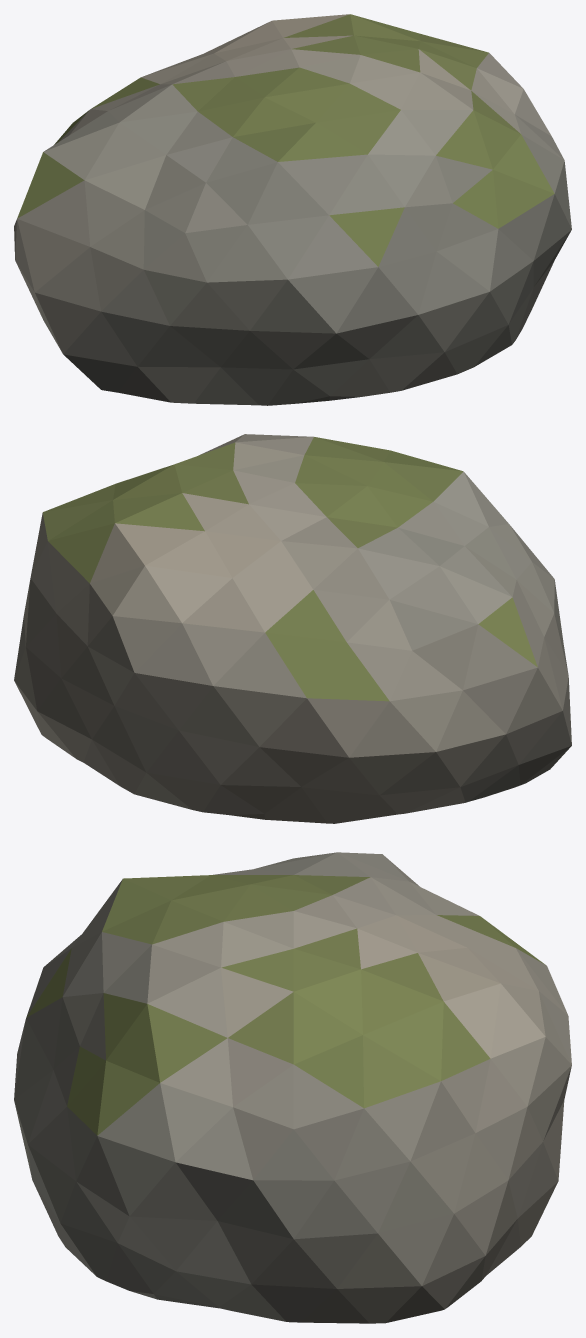
File: gk_rock_mossy_boulder.glb
The picture shows the model from 3 angles, top to bottom: view 1: azimuth 30°, elevation 25°; view 2: azimuth 150°, elevation 25°; view 3: azimuth 270°, elevation 25°; orthographic projection. The views are drawn at different scales.
Visible parts, largest first — view 1: gk_rock_mossy_boulder; view 2: gk_rock_mossy_boulder; view 3: gk_rock_mossy_boulder.
Part boxes in pixels (x1,y1,x2,y2): gk_rock_mossy_boulder: (14,14,571,405); gk_rock_mossy_boulder: (14,434,571,823); gk_rock_mossy_boulder: (14,852,571,1323).
Bounding box in the file's own units: 1.34 × 0.626 × 1.08.
